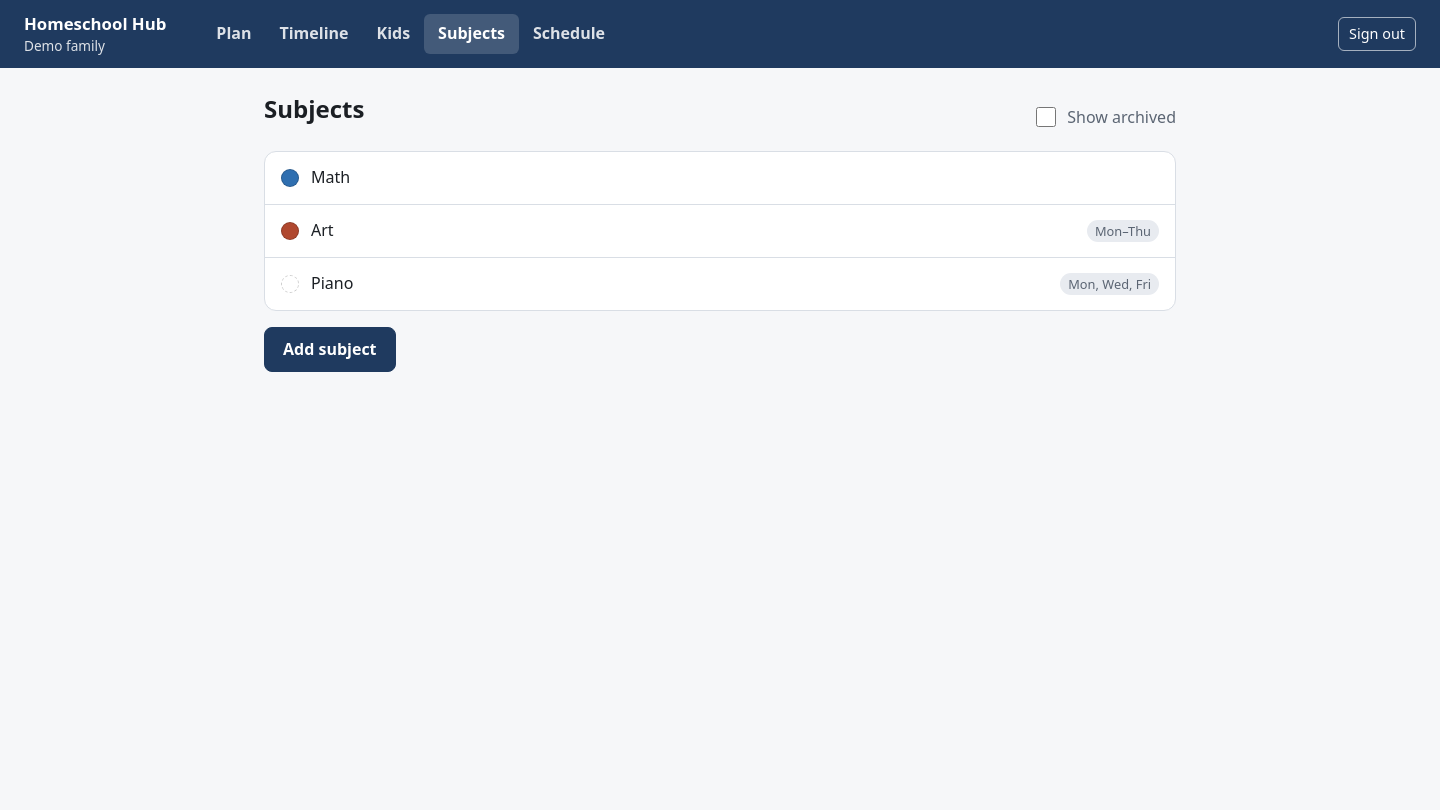
Test: Subject usual days › changes an existing default, and adding sends null unless chips were changed
Check: the list named "Subjects" is shown, box [264, 151, 1176, 311]
Click the button "Piano Mon, Wed, Fri".
click(332, 283)  # box [265, 258, 1175, 310]
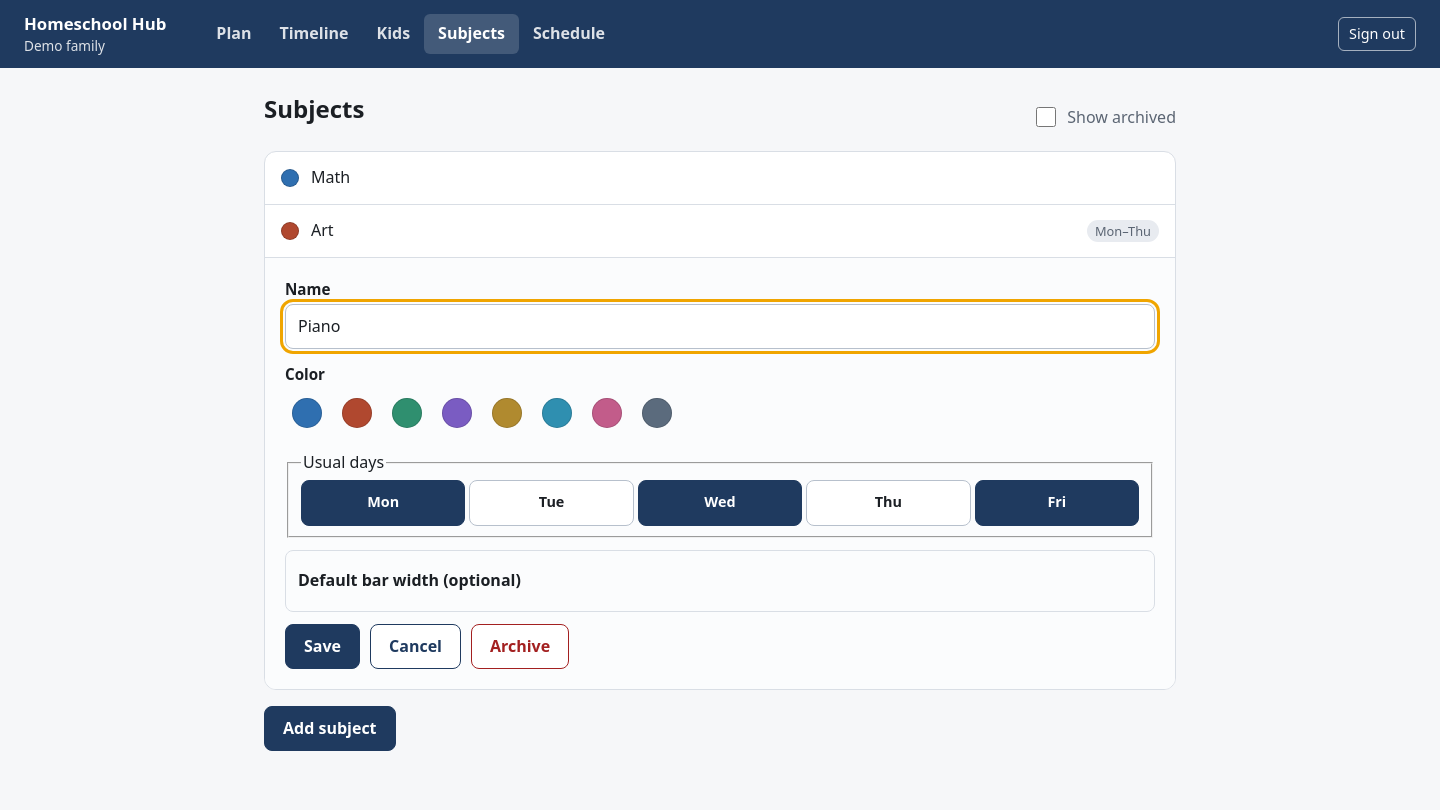
Check: the checkbox named "Wednesday" is checked, box [638, 480, 802, 526]
Check: the checkbox named "Tuesday" is not checked
Click the checkbox named "Tuesday".
click(552, 503)  # box [469, 480, 634, 526]
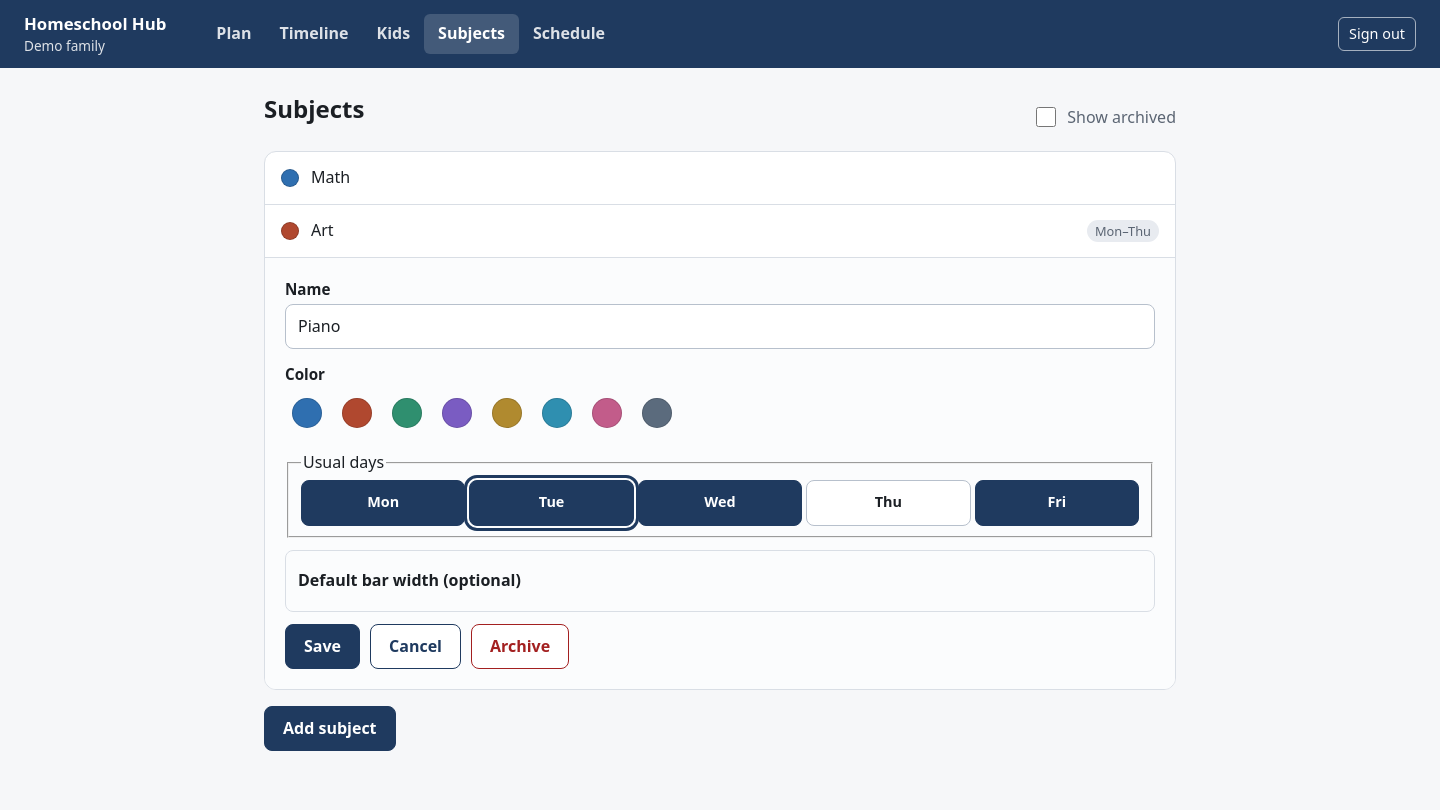
Click the button "Save".
click(322, 646)  # box [285, 624, 360, 669]
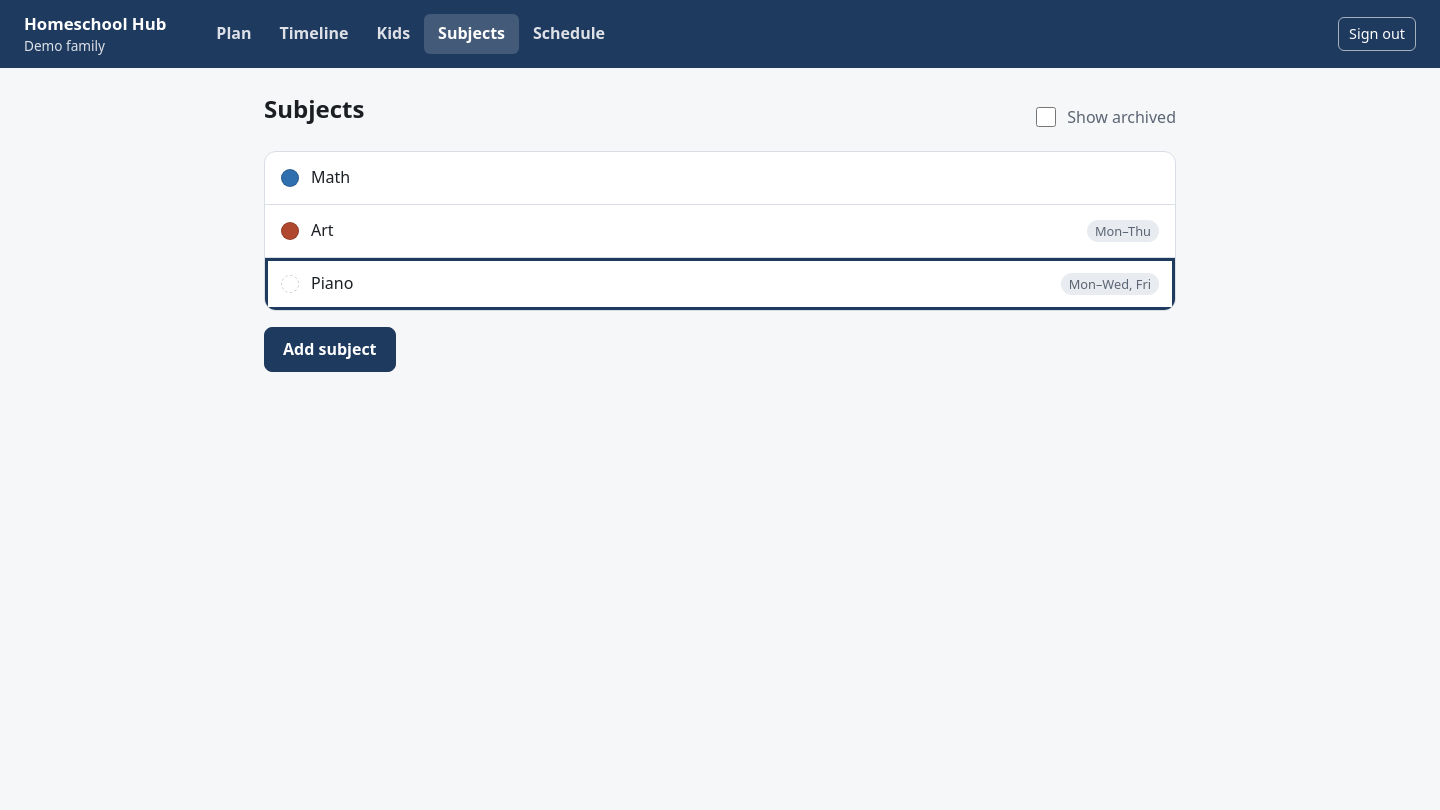
Check: the button "Piano Mon–Wed, Fri" is shown, box [265, 258, 1175, 310]
Click the button "Add subject".
click(330, 349)  # box [264, 327, 396, 372]
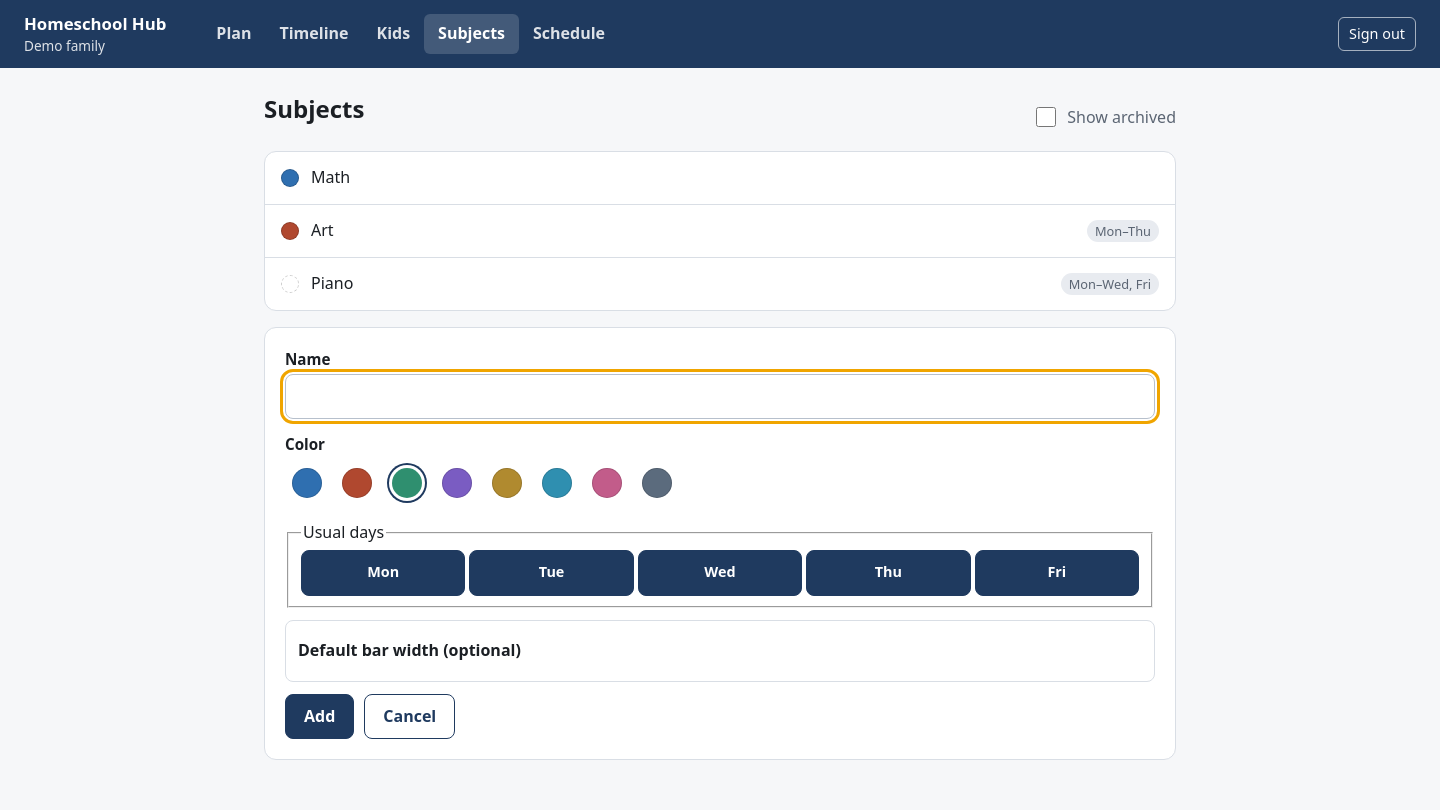
Type "Latin" into the field labelled "Name".
click(720, 396); type("Latin")  # box [285, 374, 1155, 419]
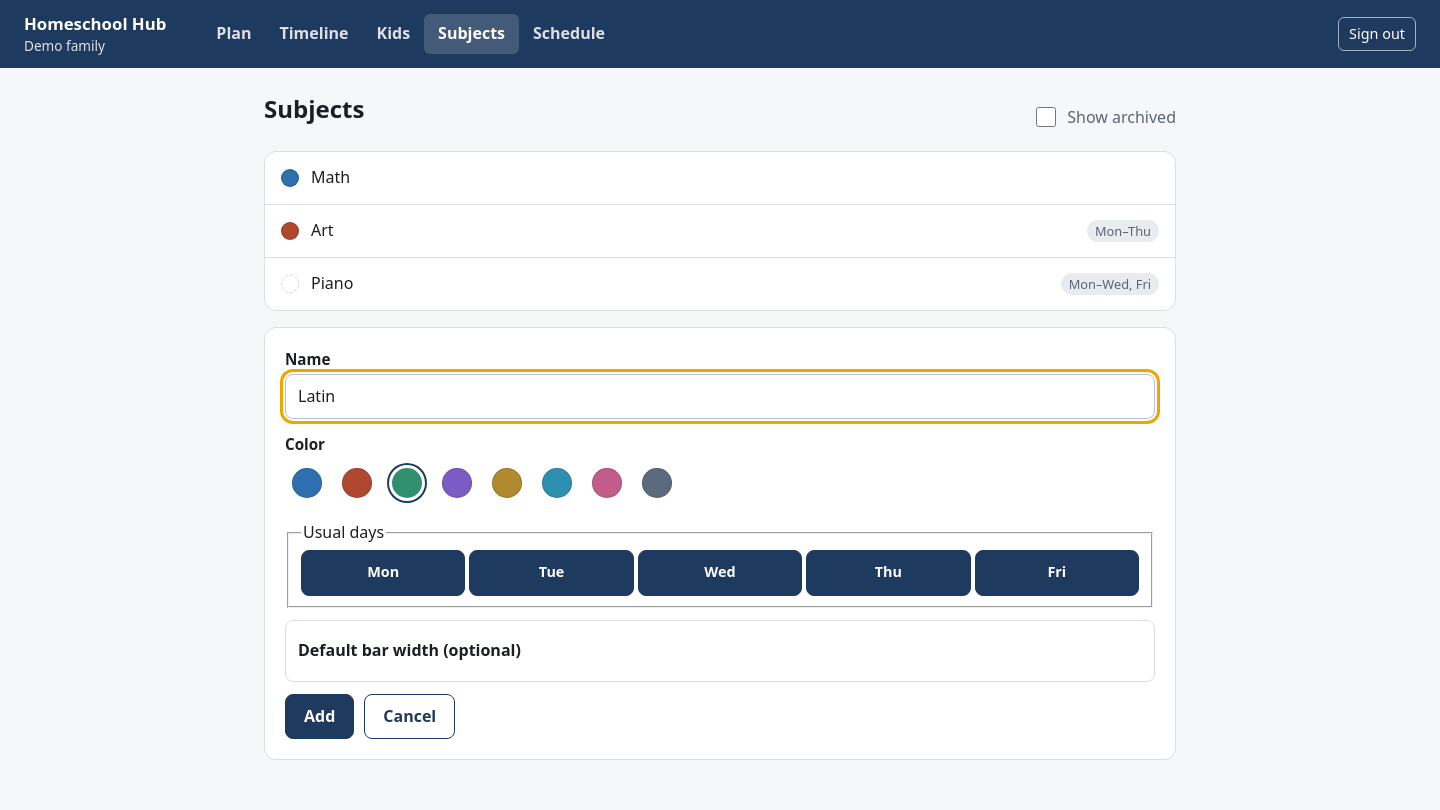
Click the button "Add".
click(320, 716)  # box [285, 694, 354, 739]
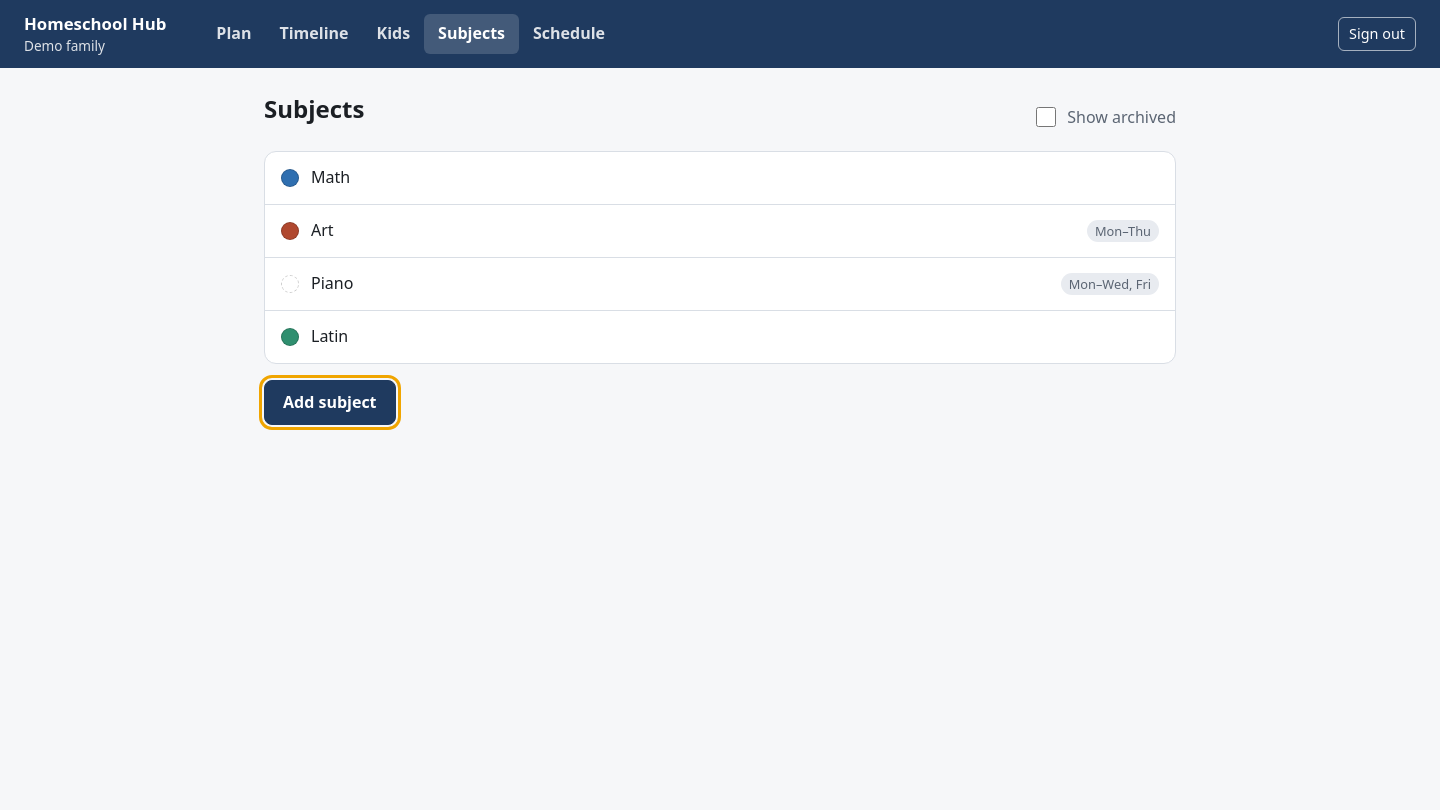
Check: the button "Latin" is shown, box [265, 311, 1175, 363]
